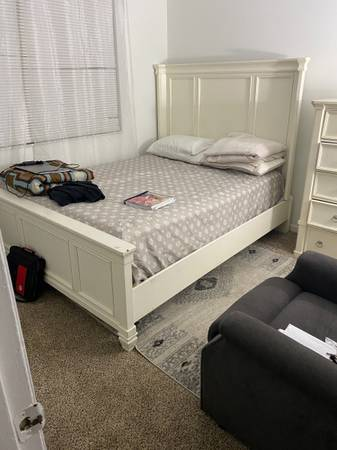bed: (1, 151, 284, 337)
